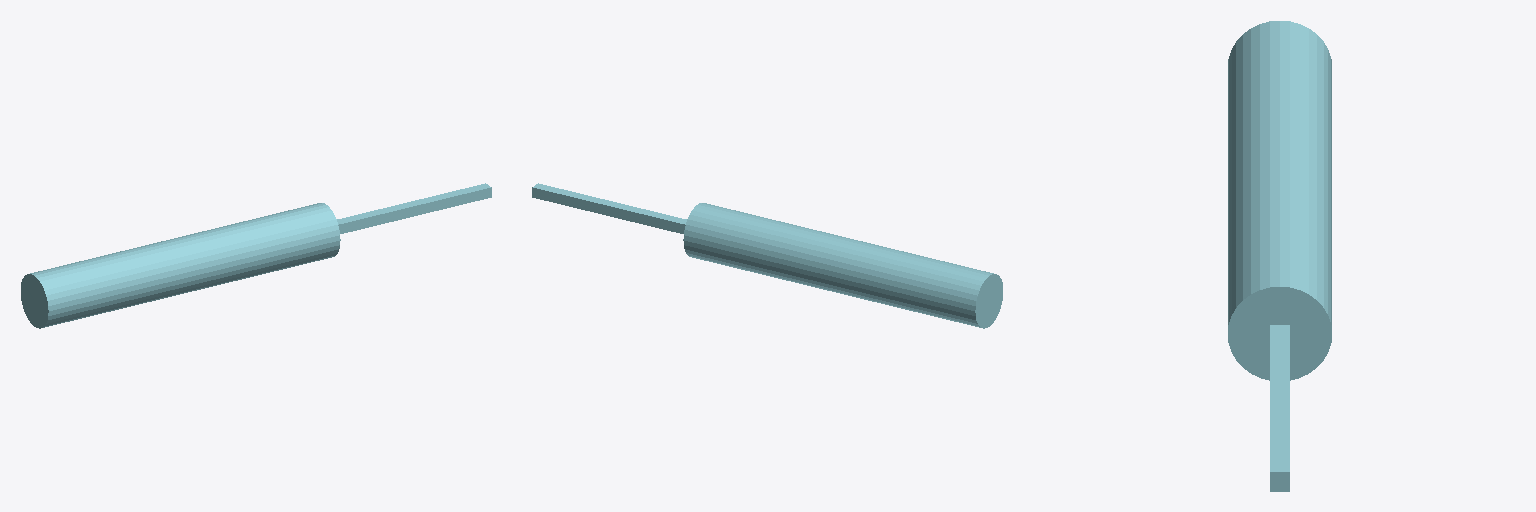
URDF robot description (cylindrical_screwdriver):
<?xml version="1.0"?>
<robot name="cylindrical_screwdriver">

  <link name="cylindrical_screwdriver">
    <!-- Handle -->
    <visual>
      <origin xyz="0 0 0" rpy="0 1.5707963267948966 0"/>
      <geometry>
        <cylinder length="0.18" radius="0.015"/>
      </geometry>
      <material name="material">
        <color rgba="0.639 0.847 0.882 1.0"/>
      </material>
    </visual>
    <collision>
      <origin xyz="0 0 0" rpy="0 1.5707963267948966 0"/>
      <geometry>
        <cylinder length="0.18" radius="0.015"/>
      </geometry>
    </collision>

    <!-- Head -->
    <visual>
      <origin xyz="0.14 0 0" rpy="0 0 0"/>
      <geometry>
        <box size="0.1 0.006 0.006"/>
      </geometry>
      <material name="material">
        <color rgba="0.639 0.847 0.882 1.0"/>
      </material>
    </visual>
    <collision>
      <origin xyz="0.14 0 0" rpy="0 0 0"/>
      <geometry>
        <box size="0.1 0.006 0.006"/>
      </geometry>
    </collision>

    <inertial>
      <density value="400.0"/>
    </inertial>
  </link>

</robot>

--- Facts derived from the render (not from the file) ---
The picture shows the robot from 3 angles, left to right: view 1: azimuth 30°, elevation 25°; view 2: azimuth 150°, elevation 25°; view 3: azimuth 270°, elevation 25°; orthographic projection.
Model cylindrical_screwdriver with 1 links and 0 joints (none), rooted at cylindrical_screwdriver, posed all joints at 0.
Links seen in each view (by area): view 1: cylindrical_screwdriver; view 2: cylindrical_screwdriver; view 3: cylindrical_screwdriver.
Link boxes in pixels (x1,y1,x2,y2): cylindrical_screwdriver: (21,183,491,328); cylindrical_screwdriver: (532,183,1002,328); cylindrical_screwdriver: (1228,21,1331,491).
Size in the robot's own frame: 0.28 by 0.03 by 0.03 metres.
Geometry: primitives only (box / cylinder / sphere), no mesh files.
